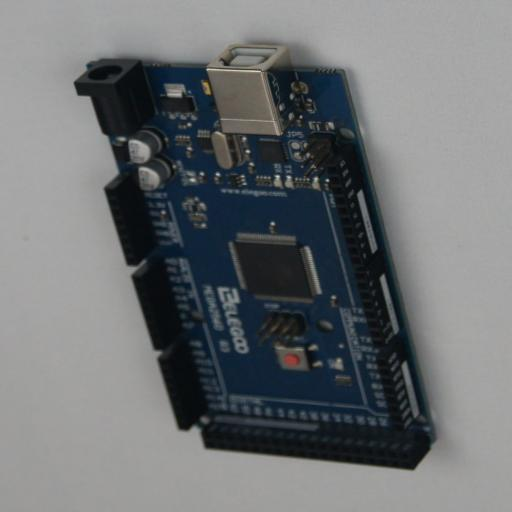Arduino Mega 2560 -Blue-: (74, 43, 437, 470)
